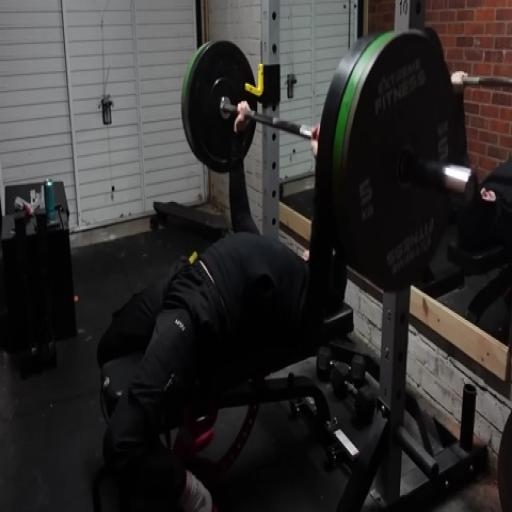exercise: (94, 98, 342, 511)
